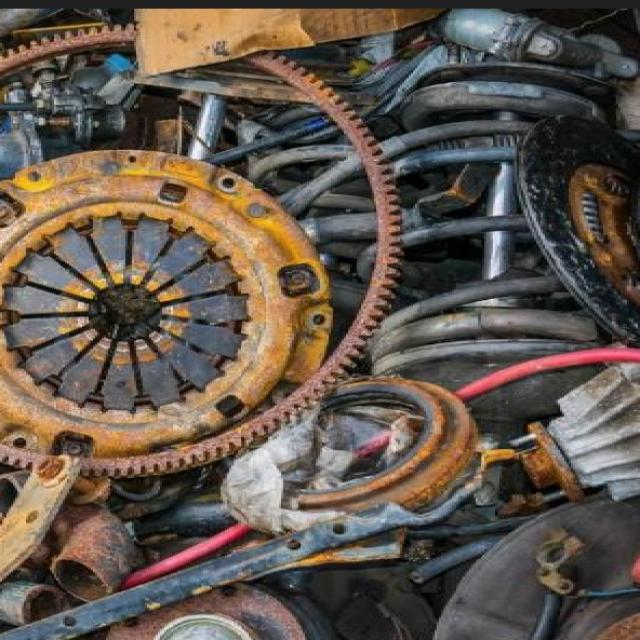shock absorber: (356, 61, 622, 460)
